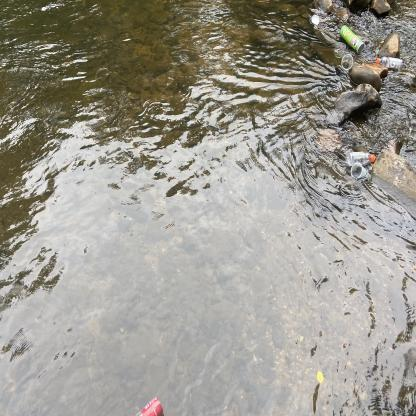trash: (338, 23, 366, 59), (131, 394, 168, 416), (344, 149, 377, 168), (374, 54, 404, 73), (348, 161, 371, 182), (339, 52, 354, 72), (308, 12, 322, 30)
